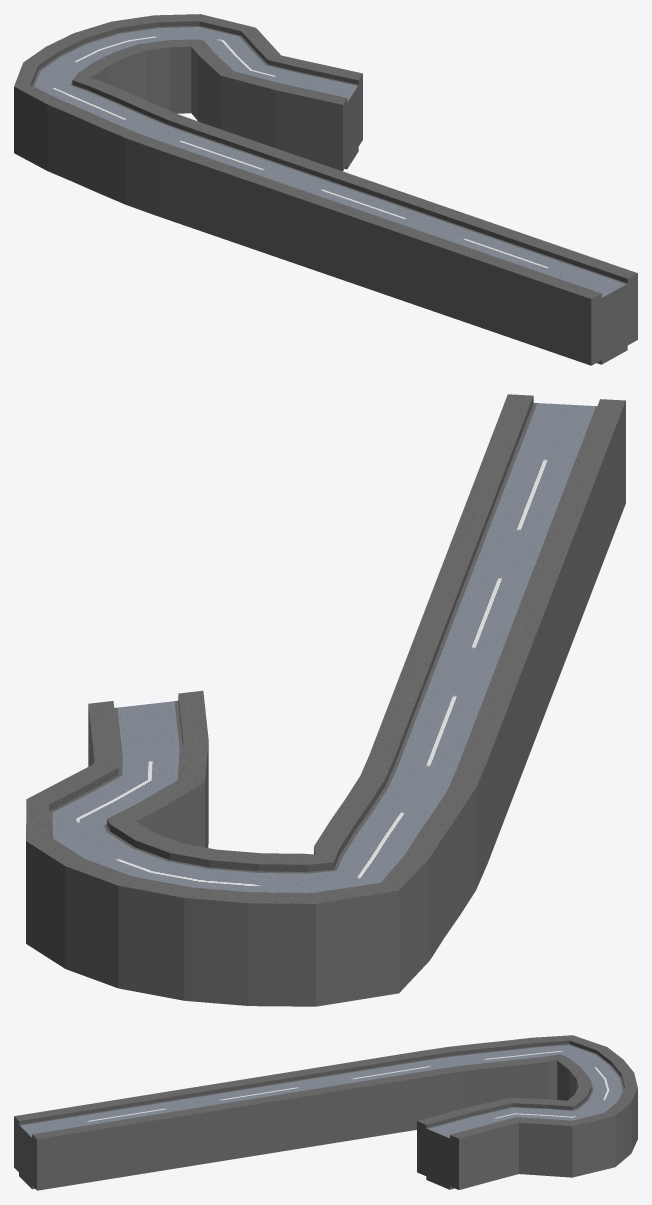
Rendered from roadtoeparty.fbx.
The picture shows the model from 3 angles, top to bottom: view 1: azimuth 30°, elevation 25°; view 2: azimuth 150°, elevation 25°; view 3: azimuth 270°, elevation 25°; orthographic projection. The views are drawn at different scales.
Visible parts, largest first — view 1: Plane.001, Plane; view 2: Plane, Plane.001; view 3: Plane.001, Plane.
Boxes of the visible parts, x1,y1,x2,y2 form: Plane.001: (14, 46, 637, 365); Plane: (14, 14, 637, 364); Plane: (26, 394, 625, 903); Plane.001: (26, 401, 625, 1006); Plane.001: (14, 1059, 637, 1190); Plane: (14, 1035, 637, 1189).
Bounding box in the file's own units: 828 × 204 × 2097.
